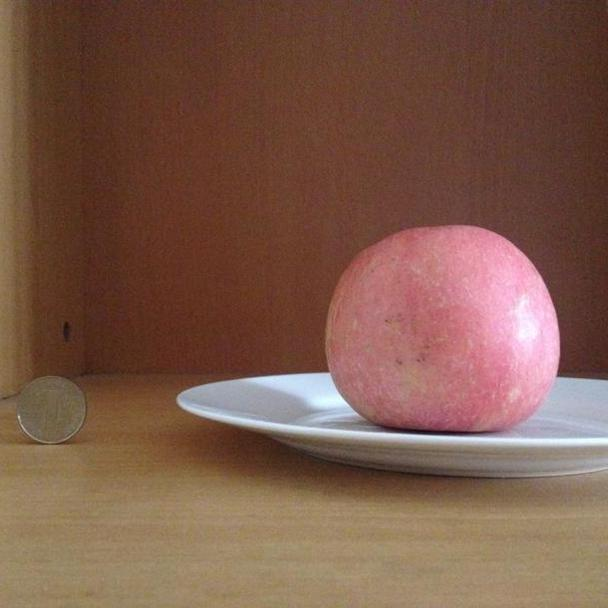apple: (320, 223, 564, 433)
